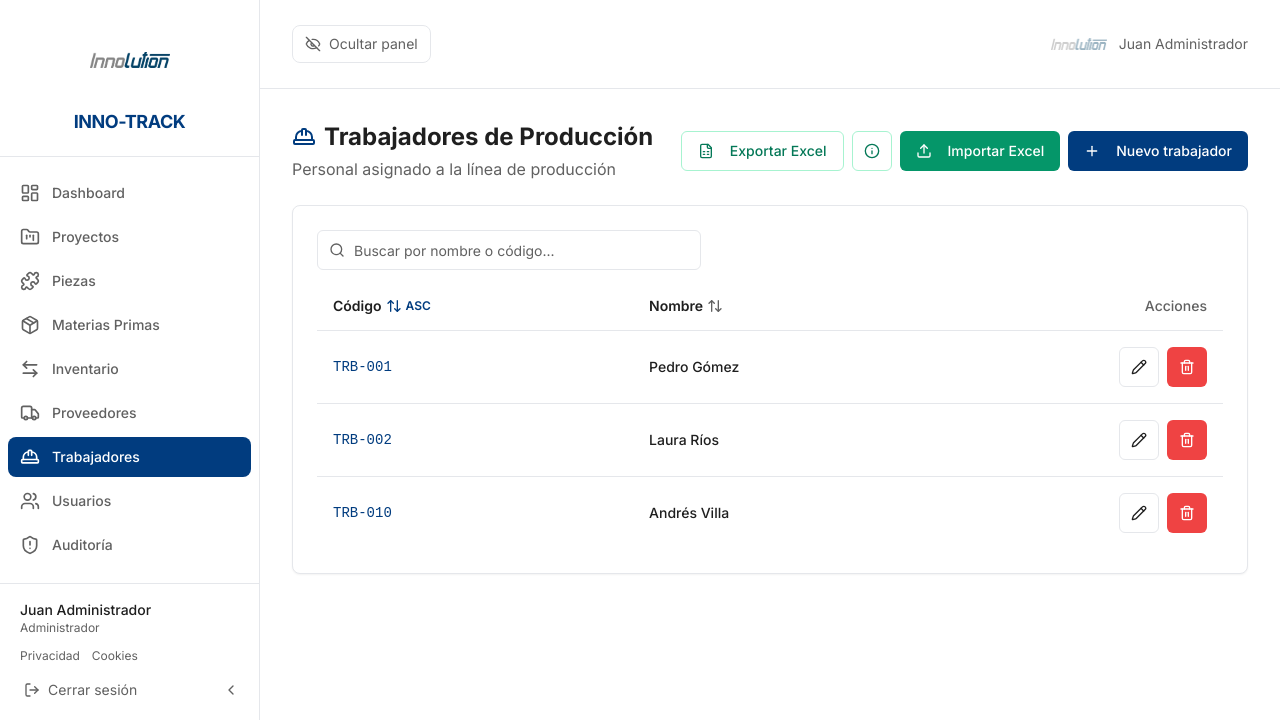
Test: Trabajadores › valida y crea un trabajador
Step 1. Click the button "Nuevo trabajador" → (1158, 151), box 1068,131 -> 1248,171
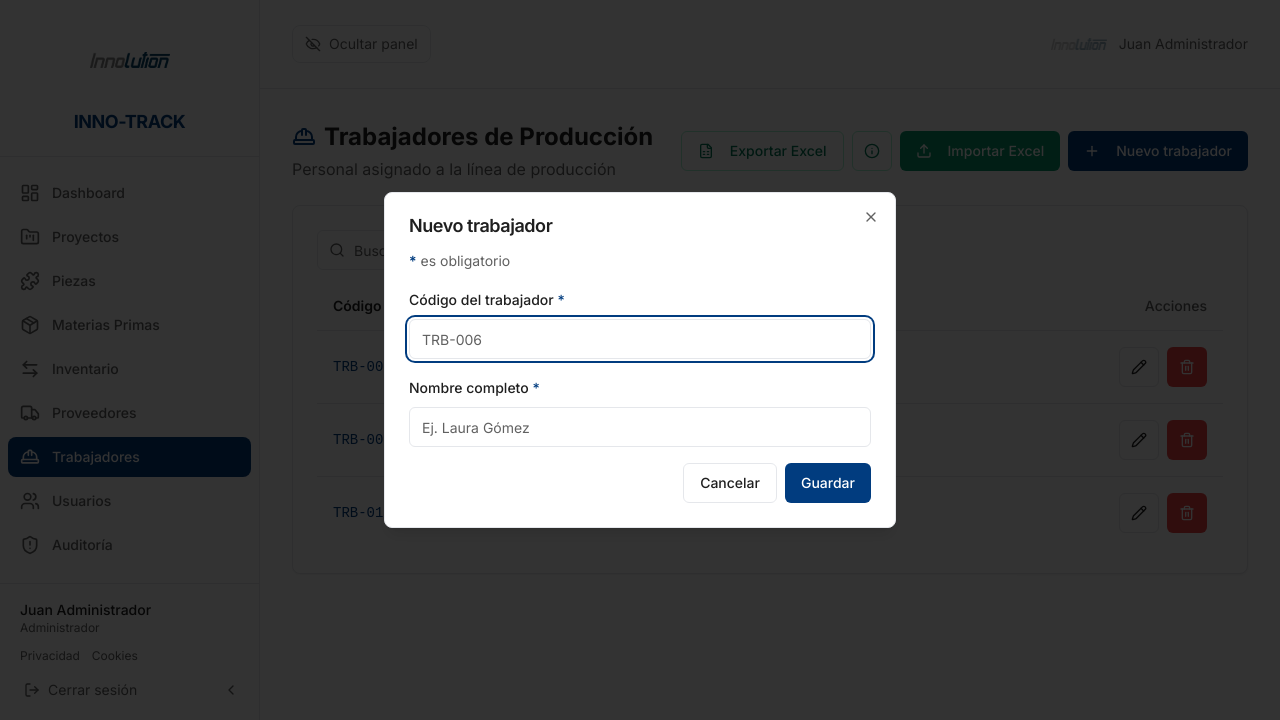
Step 2. Click the button "Guardar" → (828, 483), box 785,463 -> 871,503
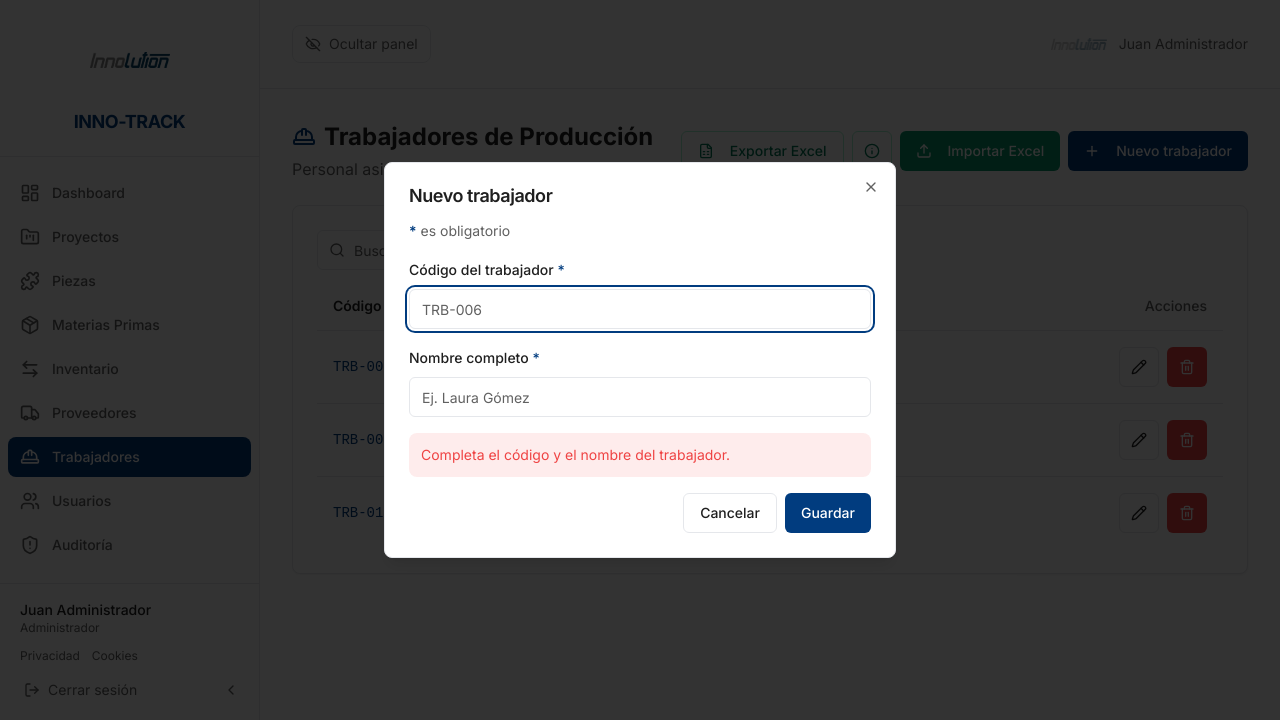
Expected: the text "Completa el código y el nombre del trabajador." is shown, 409,433 -> 871,477
Step 3. Type "trb-001" into the field labelled "Código del trabajador *" → (640, 309), box 409,289 -> 871,329
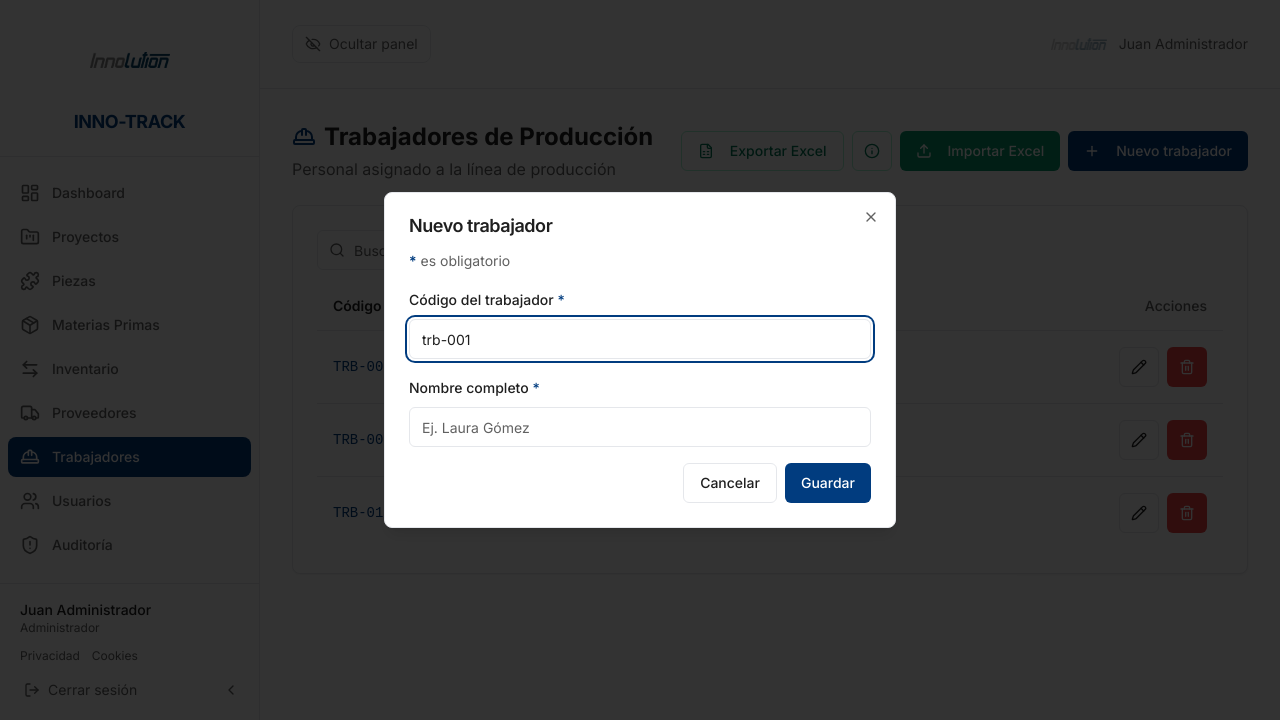
Step 4. Type "Duplicado" into the field labelled "Nombre completo *" → (640, 427), box 409,407 -> 871,447
Step 5. Click the button "Guardar" → (828, 483), box 785,463 -> 871,503
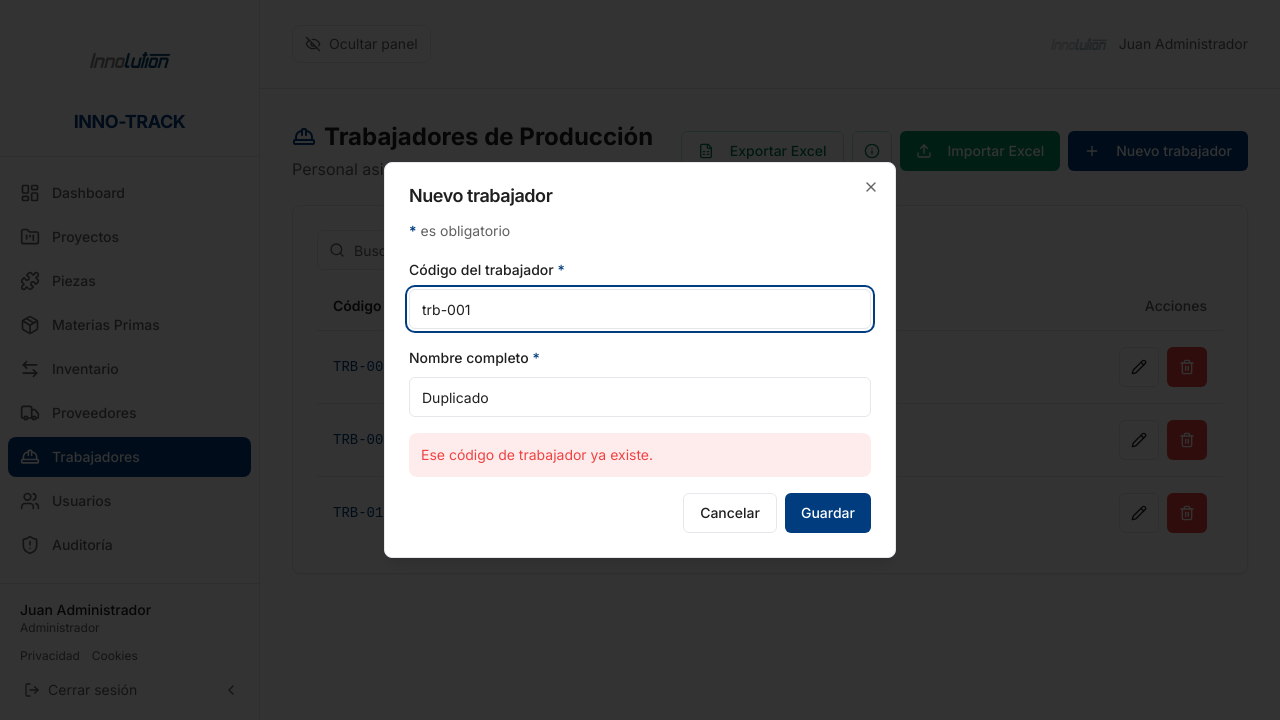
Expected: the text "Ese código de trabajador ya existe." is shown, 409,433 -> 871,477
Step 6. Replace the text in the field labelled "Código del trabajador *" with "  TRB-020 " → (640, 309), box 409,289 -> 871,329
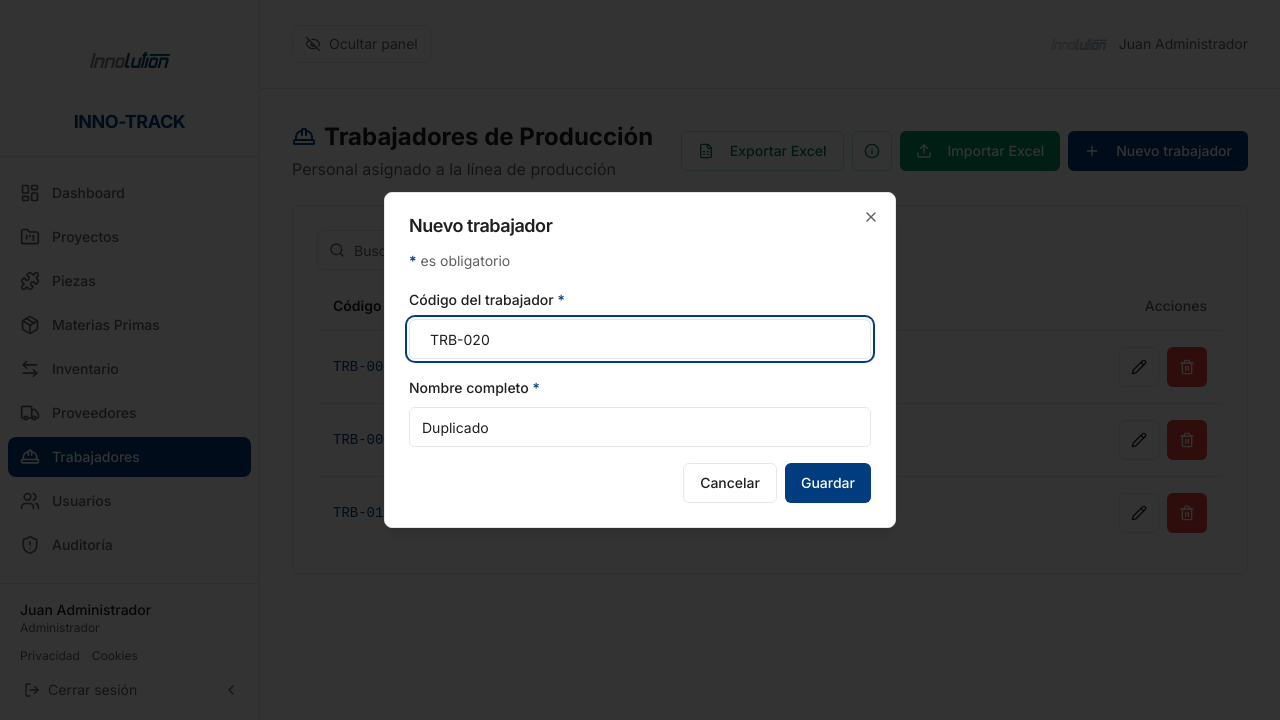
Step 7. Replace the text in the field labelled "Nombre completo *" with " Nora Paz " → (640, 427), box 409,407 -> 871,447
Step 8. Click the button "Guardar" → (828, 483), box 785,463 -> 871,503
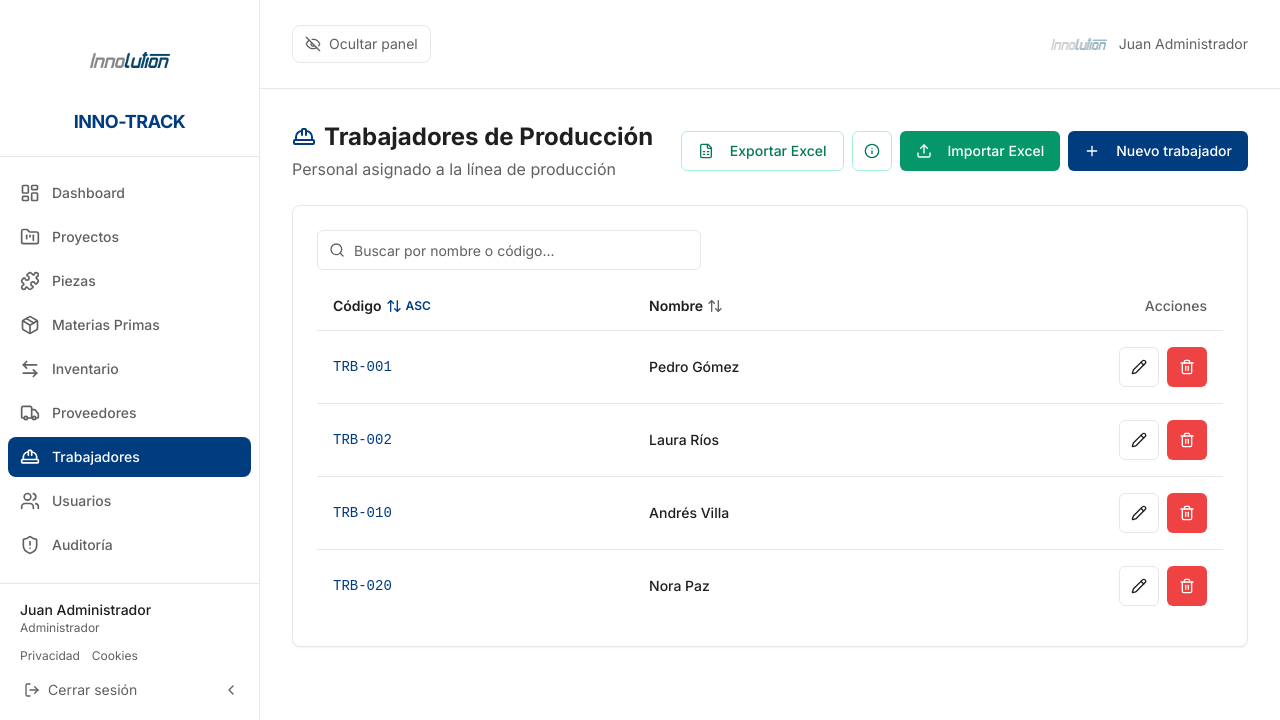
Expected: the dialog is gone
